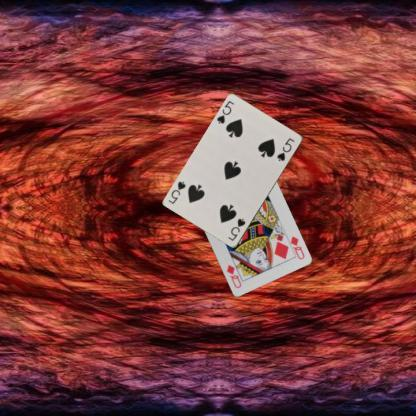5s: (214, 98, 235, 126), (225, 216, 247, 242)
Qd: (284, 233, 306, 260)
